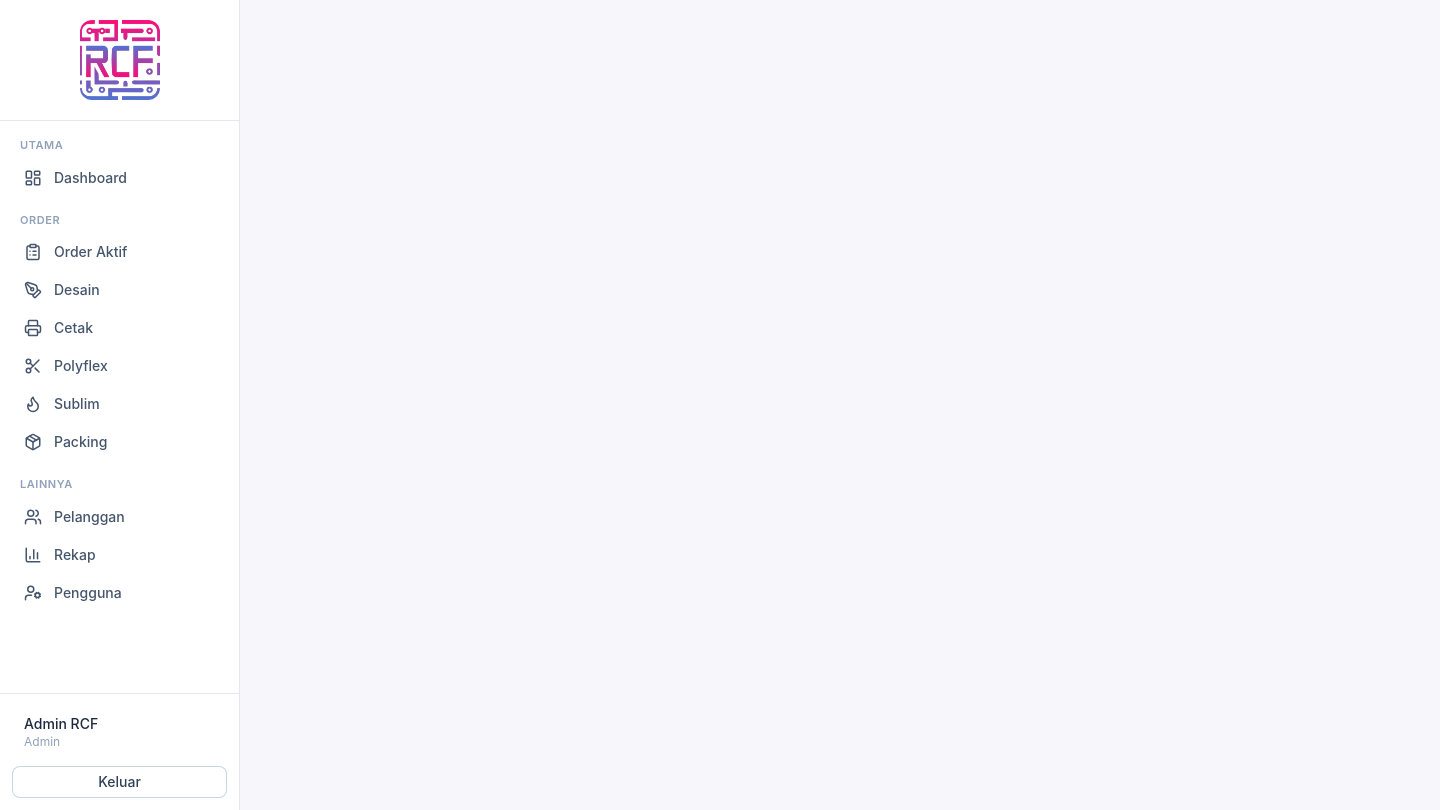
it: AppLayout — konfirmasi logout › batal menutup dialog tanpa logout
The width and height of the screenshot is (1440, 810).
Click the button "Keluar" at (120, 782), box [12, 766, 227, 798]
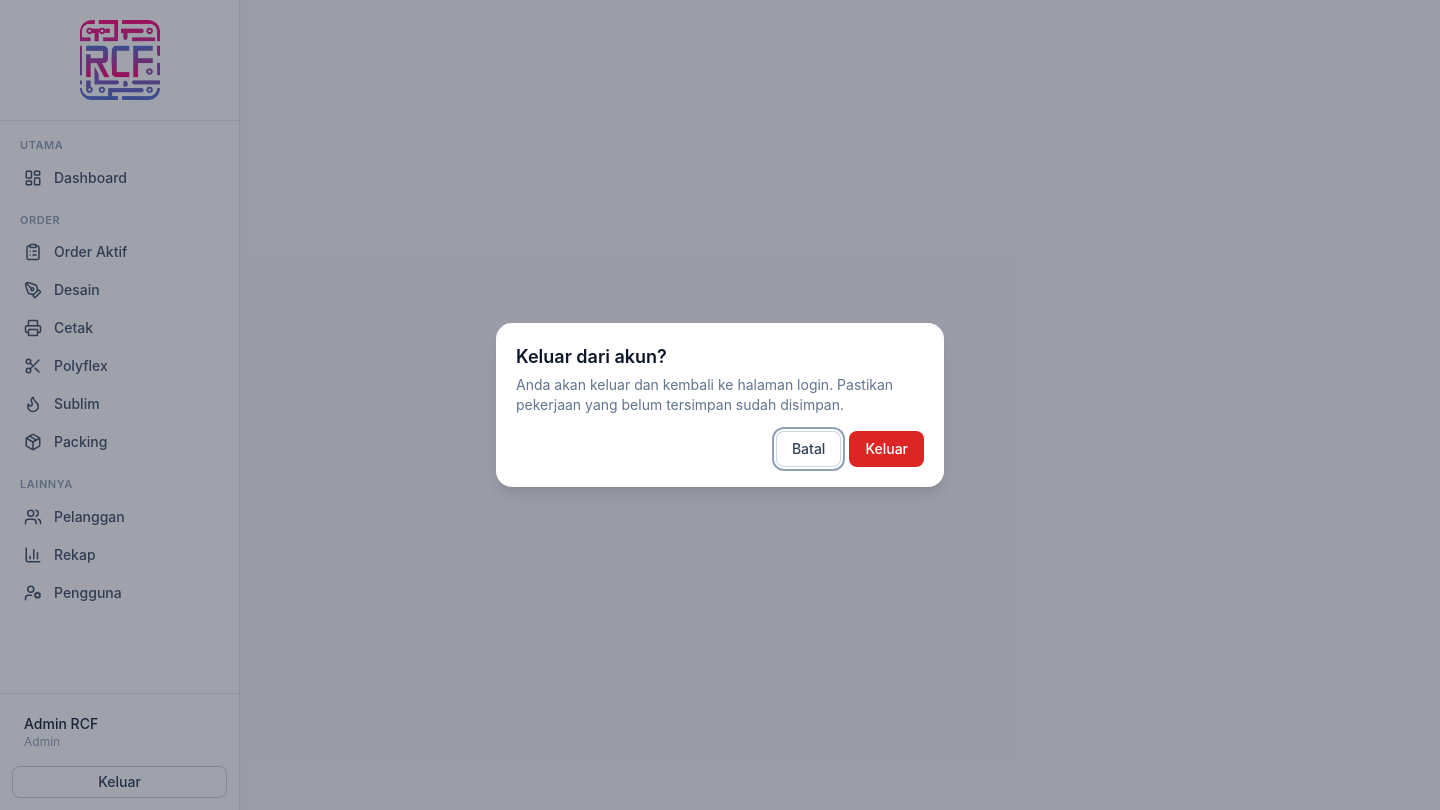
expect the heading "Keluar dari akun?" is shown: met, box [516, 346, 667, 367]
Click the button "Batal" at (809, 449), box [776, 431, 841, 467]
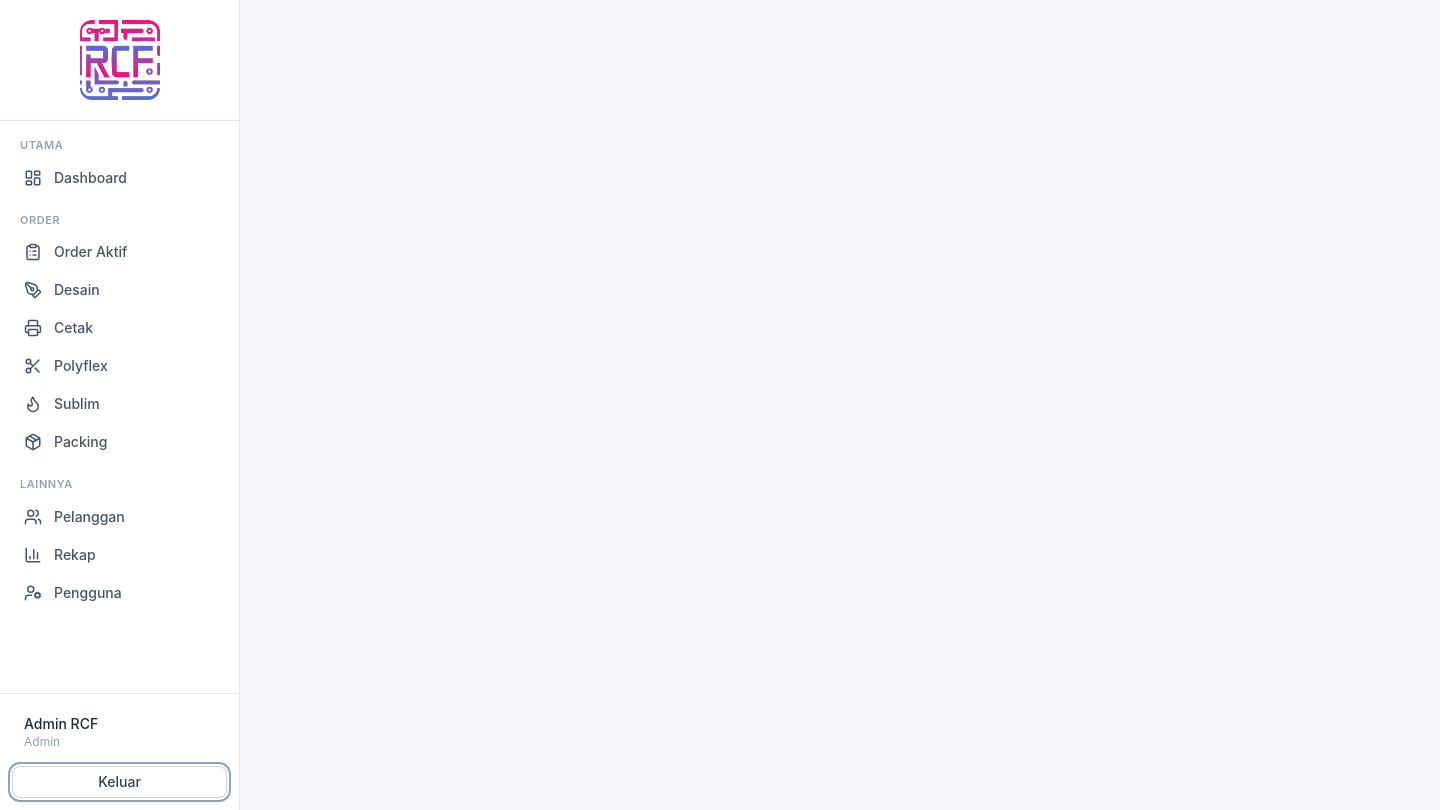
expect the heading "Keluar dari akun?" is gone: met
